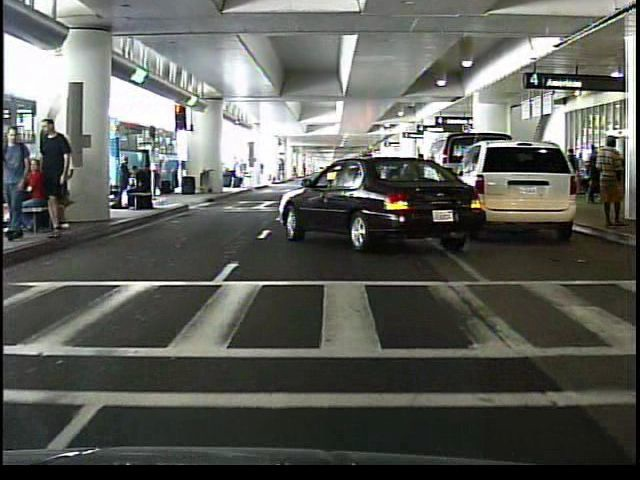person: (595, 132, 627, 230), (120, 162, 154, 213), (561, 145, 581, 196)
